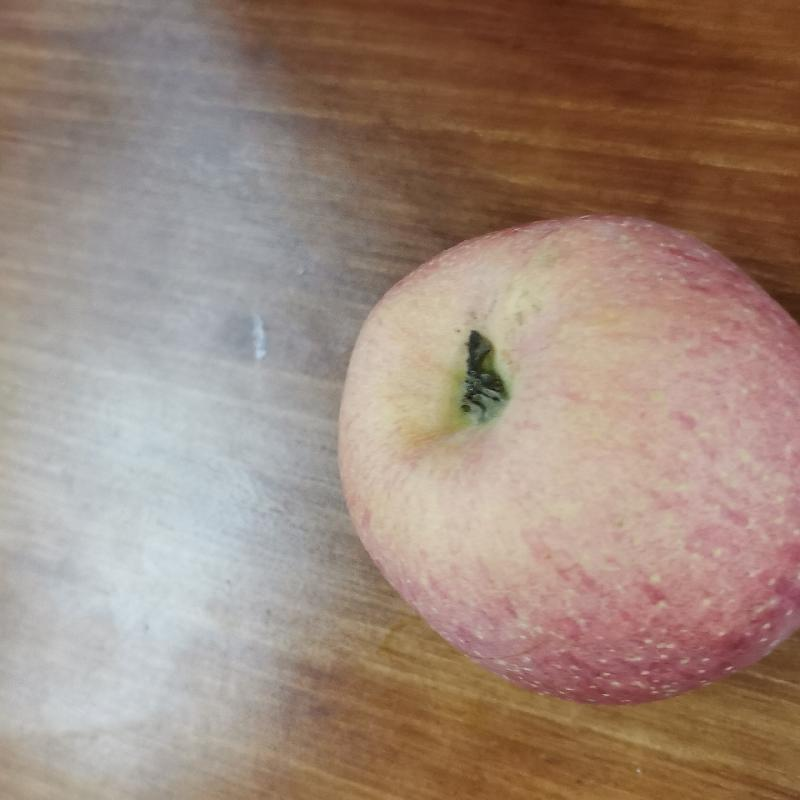apples: (321, 198, 800, 711)
